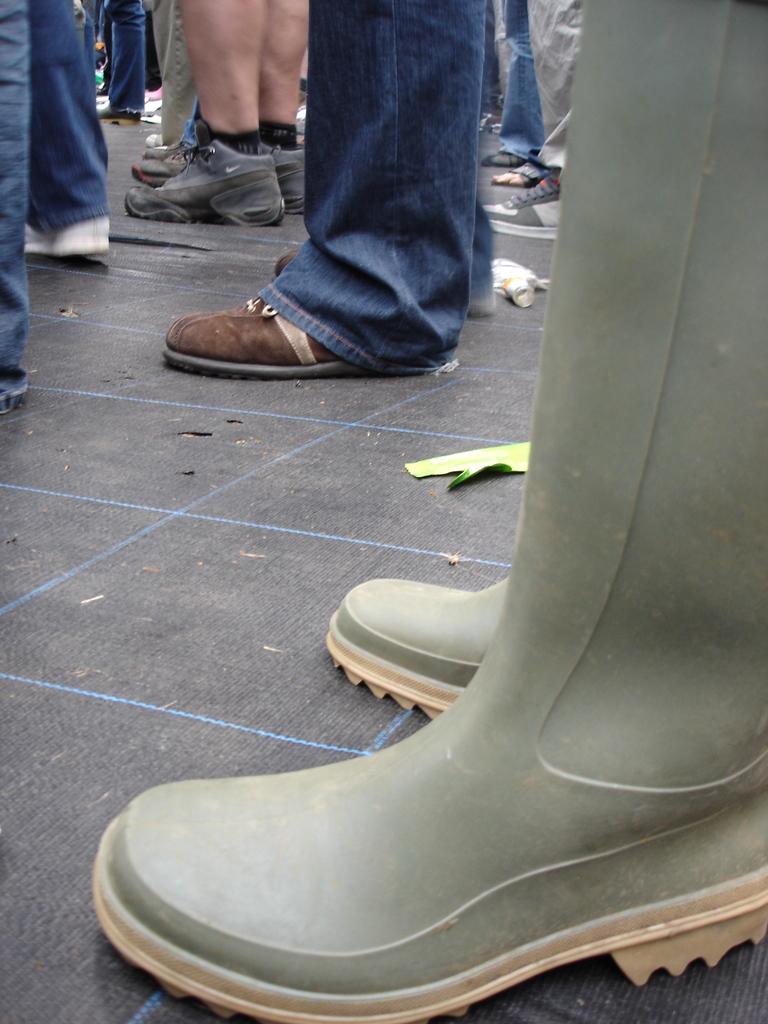person: (160, 0, 499, 378)
